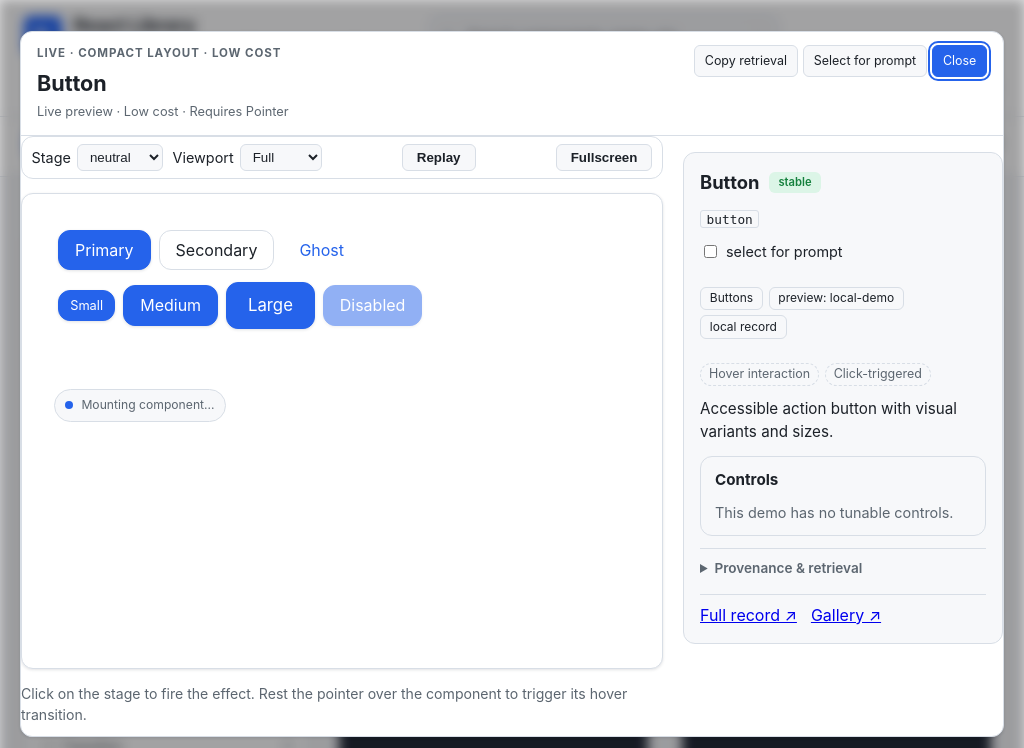
App deep links and overlays › opens a real expanded workspace lazily and keeps the route underneath
Check: the element with test id "preview-stage" is shown, box [54,230,422,422]
Check: the button with test id "preview-replay" is shown, box [402,144,476,171]
Step 1. Click the button "Close" → [960, 61], box [932,45,987,77]
(page scrolled)
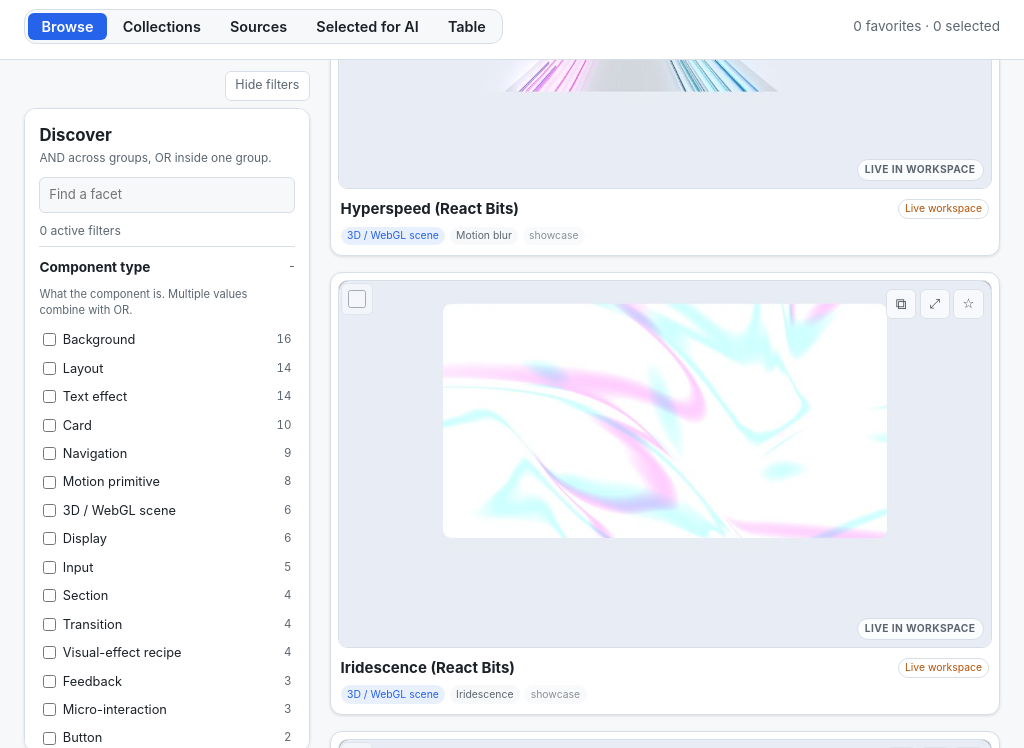
Check: the dialog is gone
